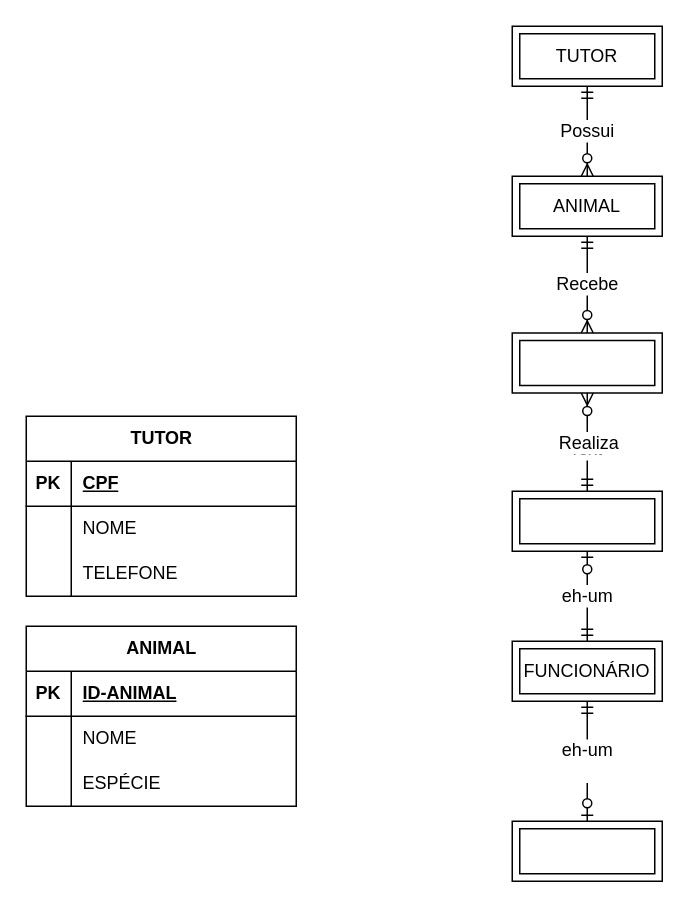
The diagram is 689 pixels wide and 908 high, and some of its shapes have lost their labels. The shapes that lost their labels are listed below. From the top down, each one's centre as x and y in pixels, then its label:
At (586,362): "CONSULTA".
At (586,520): "VETERINÁRIO".
At (586,850): "ATENDENTE".
